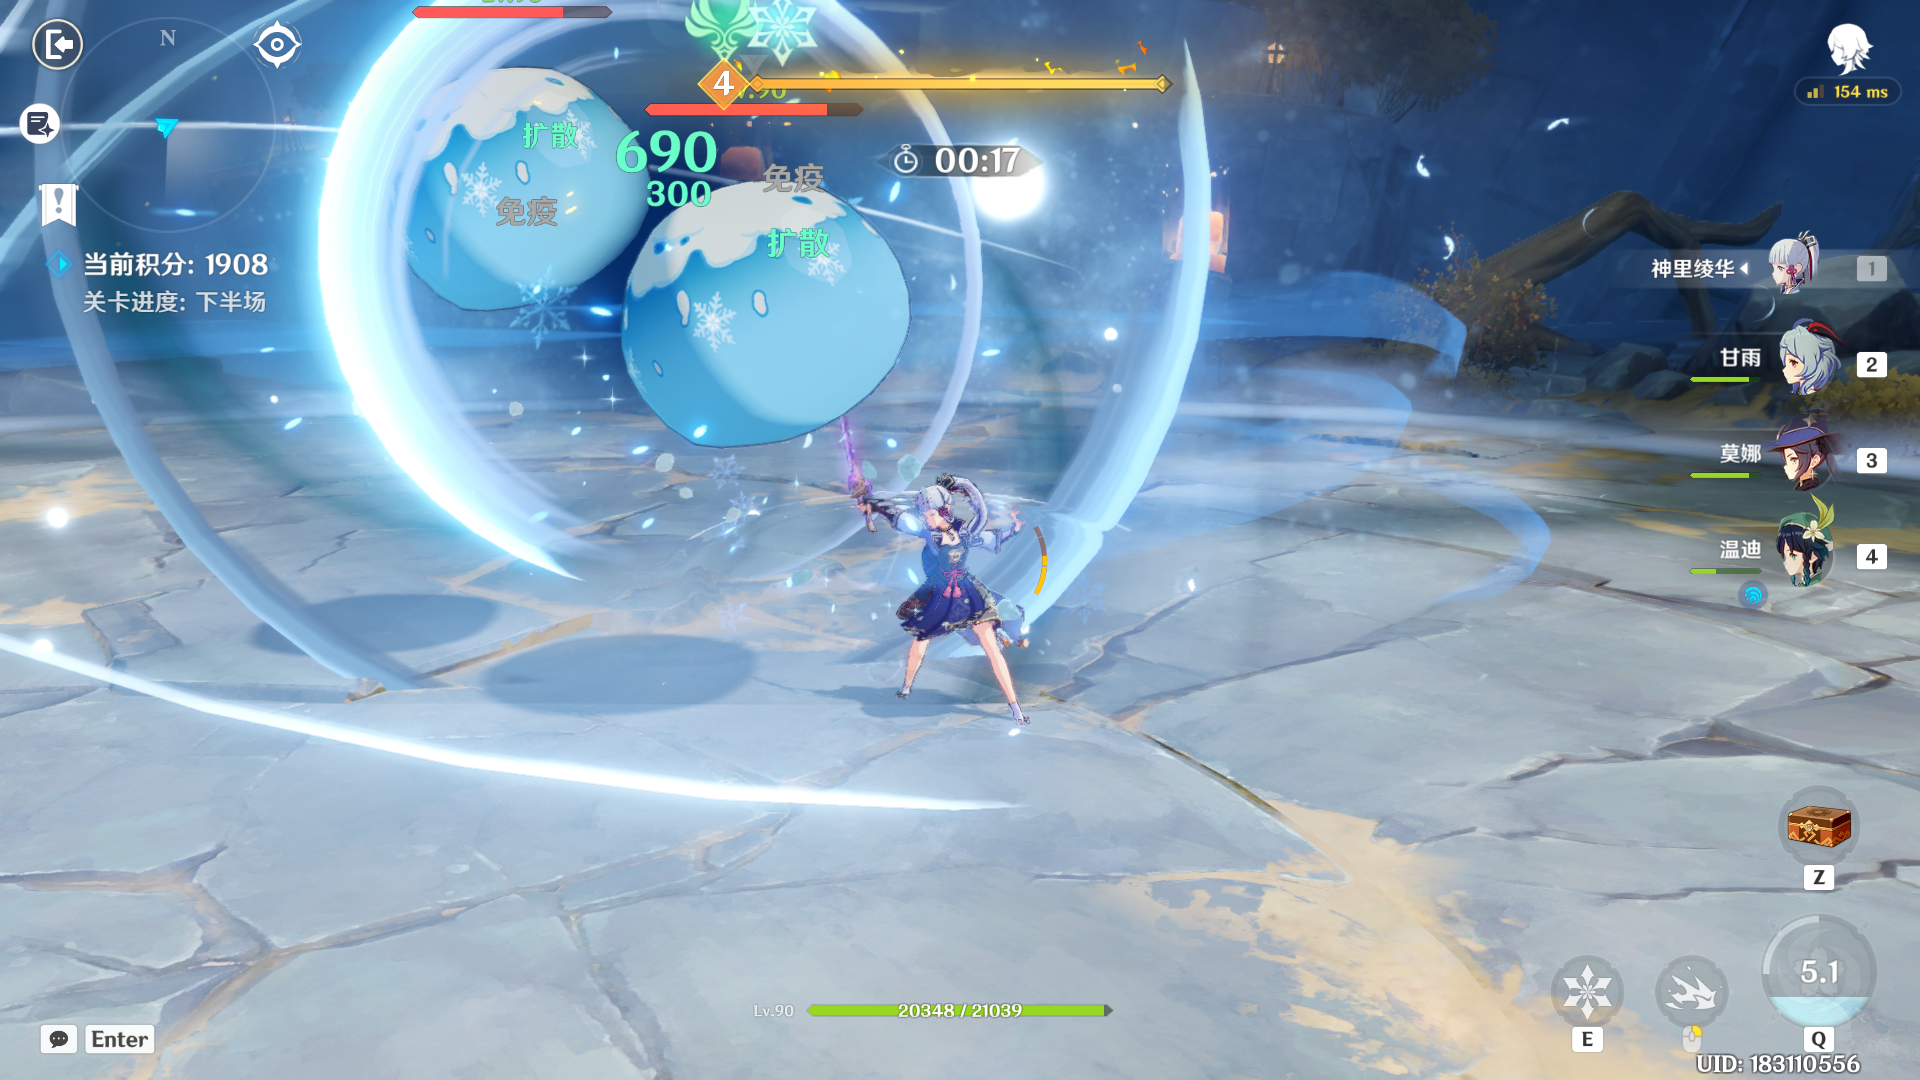character: (819, 438, 1069, 764)
slime: (603, 173, 915, 462), (351, 71, 661, 310)
